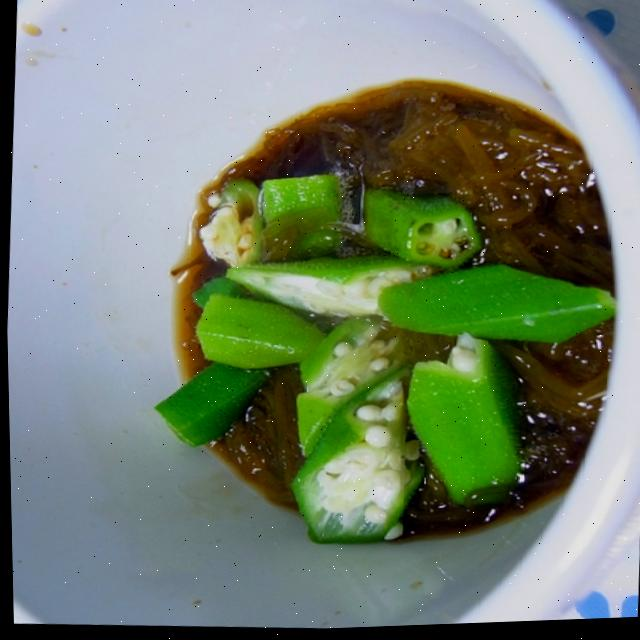蔬菜料理: (3, 3, 640, 627)
